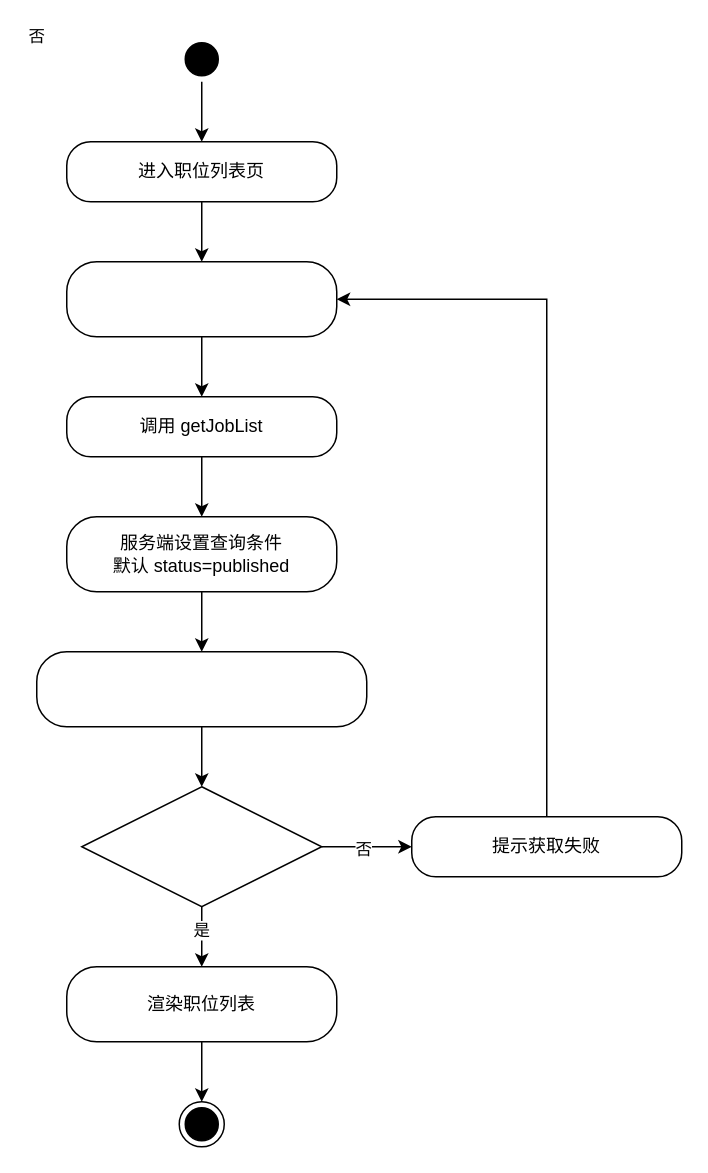
Image size: 708x1173. Some labels were removed from this diagram. Here are the shapes that lost their labels. From the top down, the centre of each, then its label:
At point 201,298: "输入筛选条件 (keyword/city/jobType)".
At point 201,688: "分页查询并返回列表 (pageNum/pageSize/hasMore)".
At point 201,846: "查询成功".
